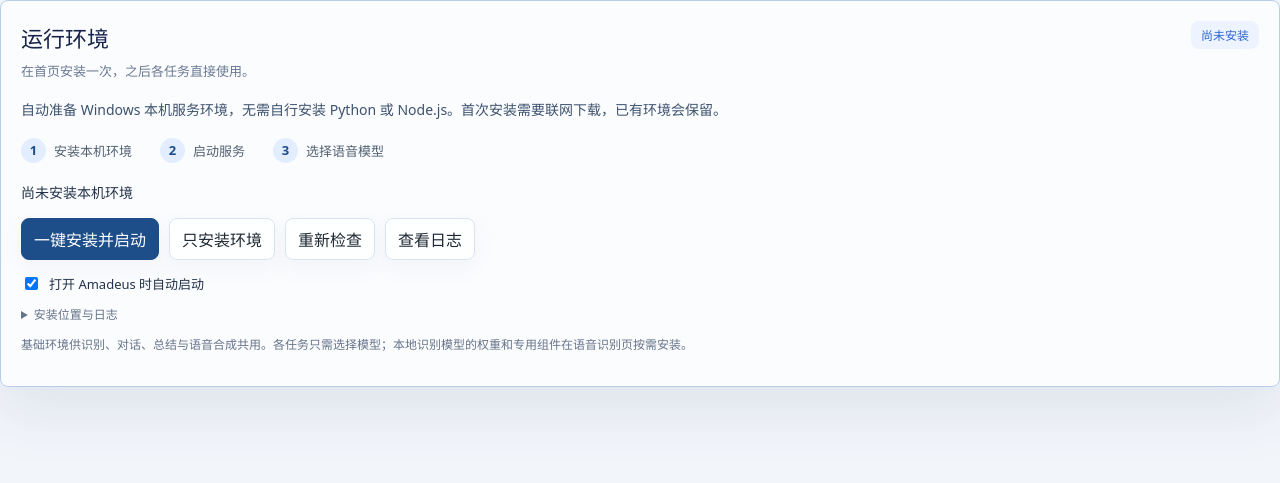
Test case: Windows local environment setup › keeps failures visible and permits retry without starting an incomplete environment
Click the button "一键安装并启动" at coordinates (90, 239), box left=21, top=218, right=159, bottom=260
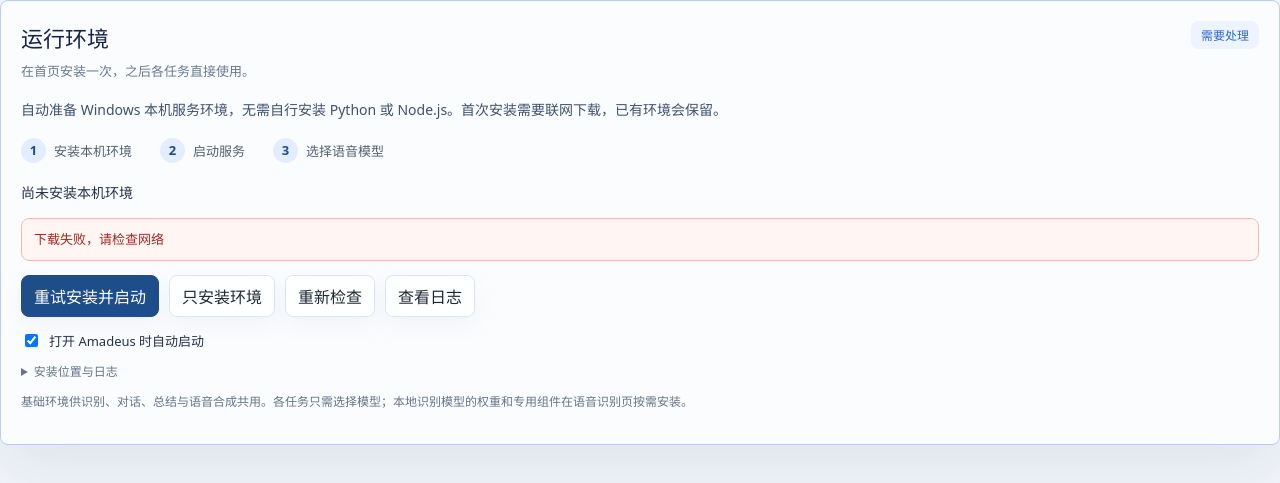
expect the message "下载失败，请检查网络" is shown: met, box left=21, top=218, right=1259, bottom=261
Click the button "重试安装并启动" at coordinates (90, 296), box left=21, top=275, right=159, bottom=317
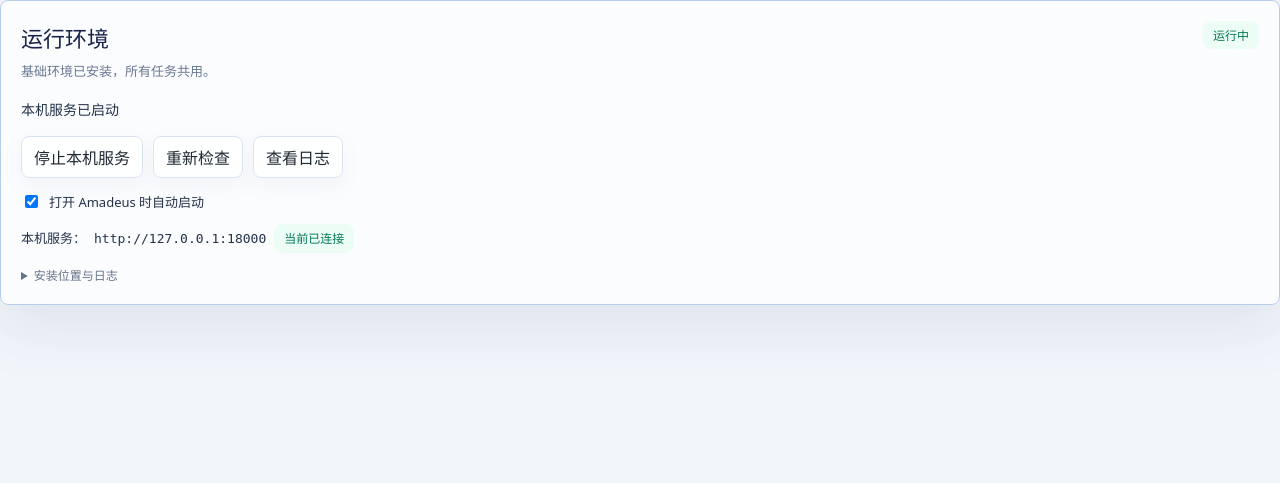
expect the button "停止本机服务" is shown: met, box left=21, top=136, right=143, bottom=178
